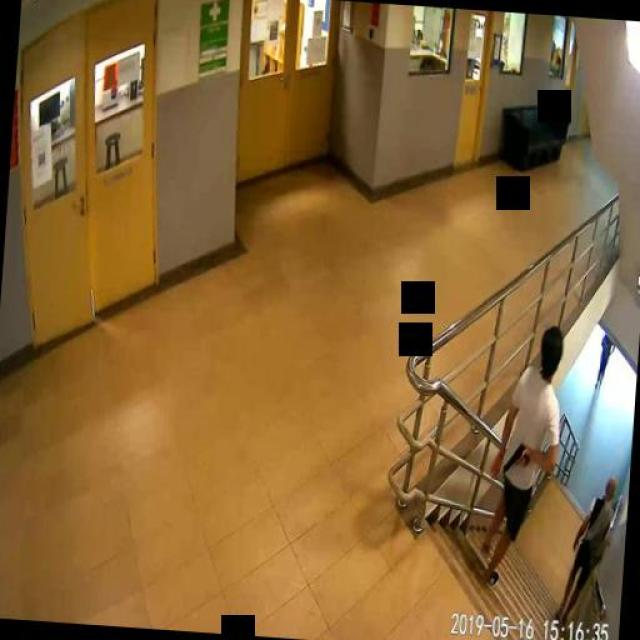gun: (501, 440, 529, 472)
